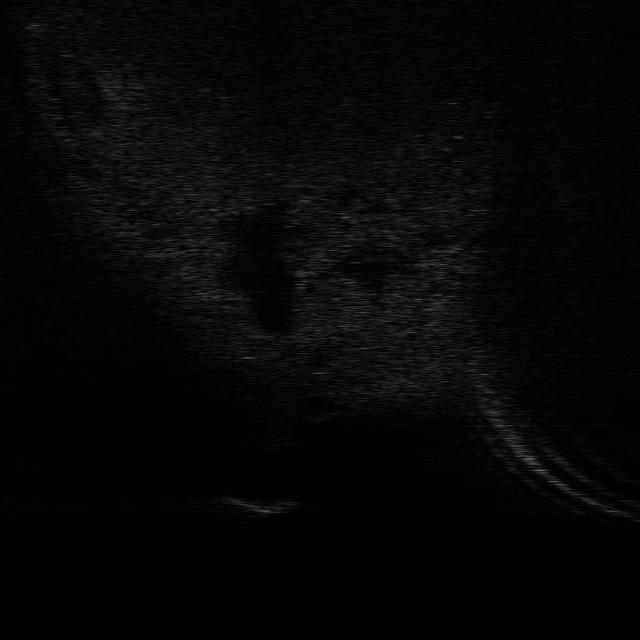cube: (208, 495, 302, 519)
